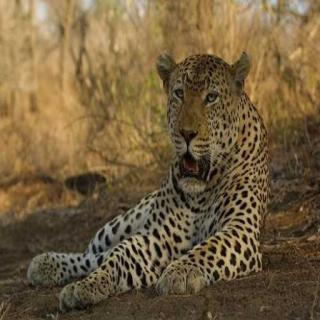Leopard: (97, 34, 280, 320)
